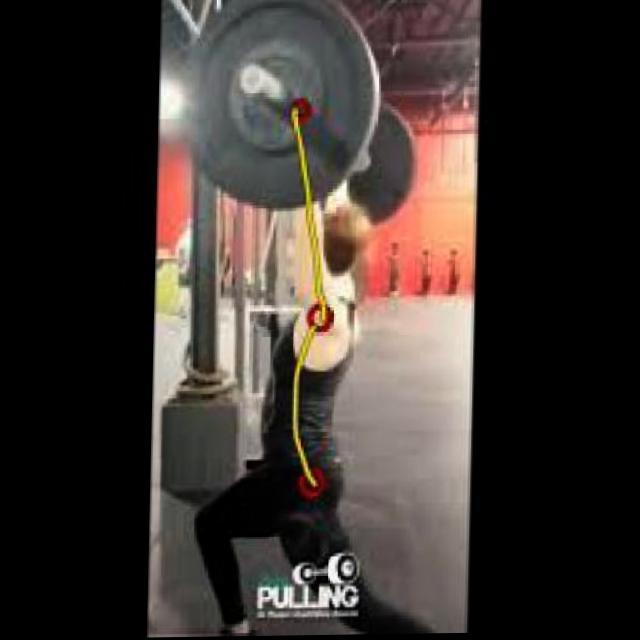barbell: (174, 1, 391, 216)
